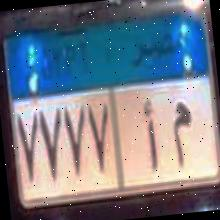7: (86, 101, 116, 172), (62, 104, 92, 174), (38, 108, 66, 172), (16, 111, 42, 175)
alif: (139, 97, 164, 166)
meem: (165, 95, 199, 171)
